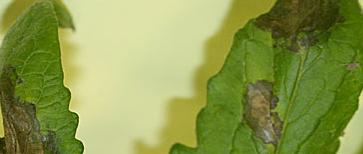Tomato leaf late blight: (139, 0, 363, 154), (0, 0, 82, 154)
